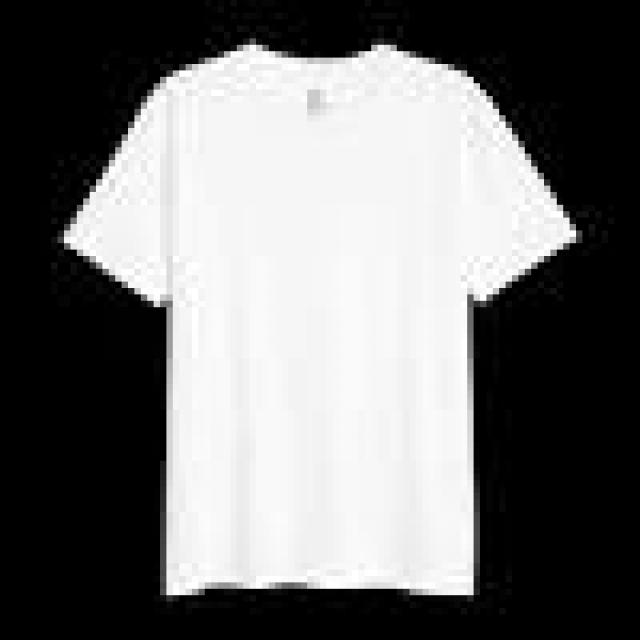Shirt: (41, 29, 579, 616)
